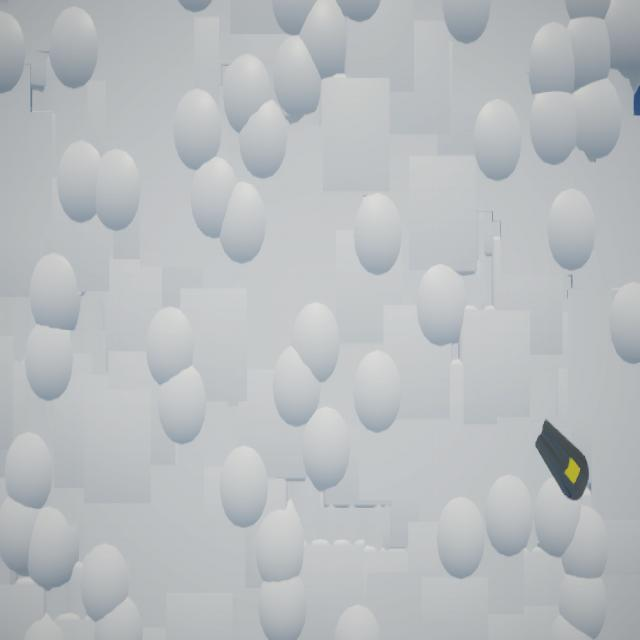handle_folk: (535, 419, 590, 502)
